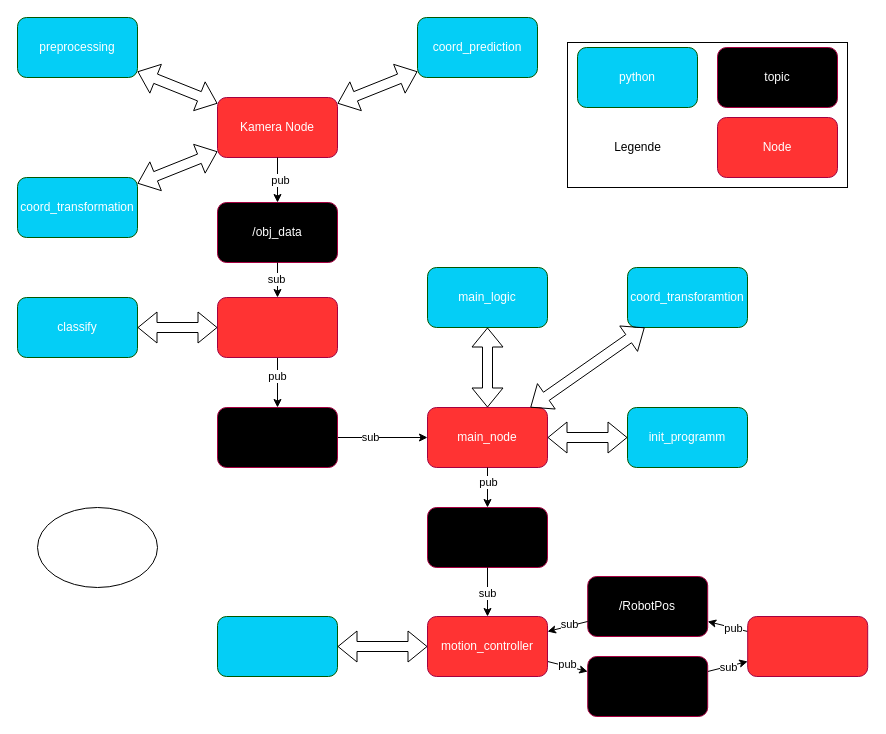
The diagram is 886 pixels wide and 734 high, and some of its shapes have lost their labels. The shapes that lost their labels are listed below. From the top down, each one's centre as x and y in pixels, then its label:
point (277, 327): machine learning Node
point (277, 437): /obj_data_deluxe
point (97, 547): Test
point (487, 537): /goal_data
point (277, 646): move_logic
point (807, 646): /SerialMapping
point (647, 686): /RobotCmd
